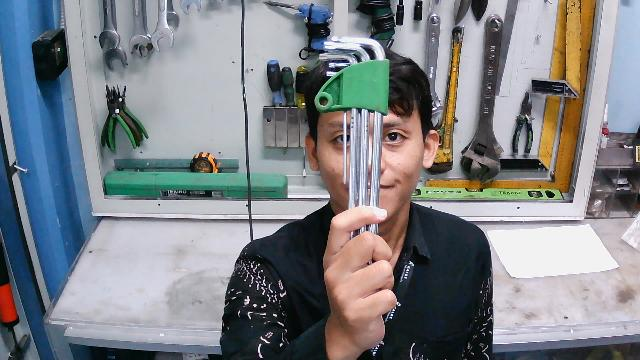kunci_l_bintang: (321, 33, 392, 274)
